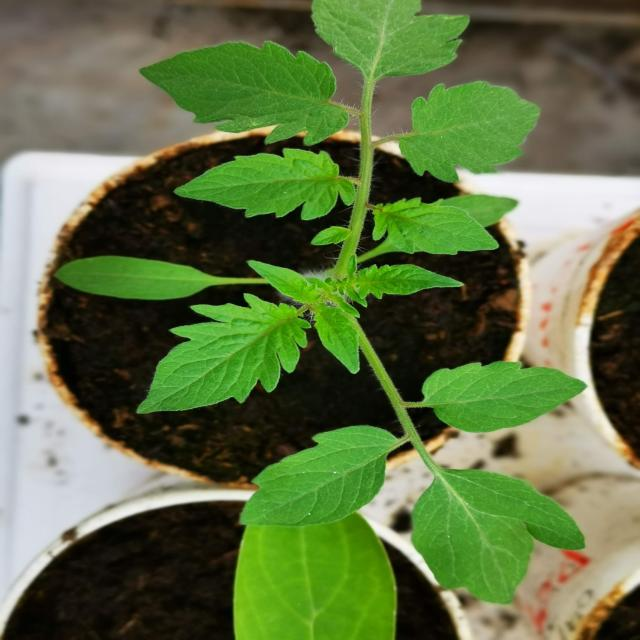T_L_R: (411, 470, 586, 605), (140, 42, 350, 146), (138, 294, 313, 414), (241, 426, 404, 528), (399, 82, 543, 183), (311, 1, 470, 84), (174, 149, 357, 221), (420, 362, 589, 433), (325, 255, 466, 309), (373, 198, 500, 256), (312, 304, 362, 376), (312, 226, 353, 246)
T_S_R: (349, 316, 439, 479), (336, 85, 374, 280)
